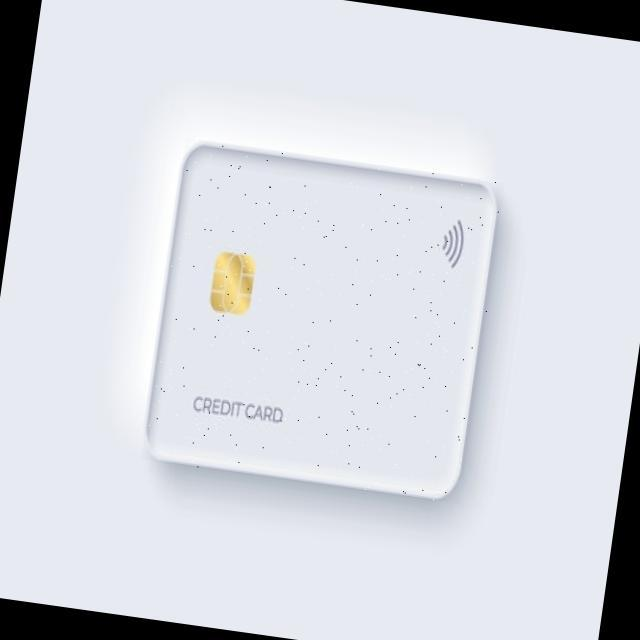payment_card: (144, 140, 498, 501)
